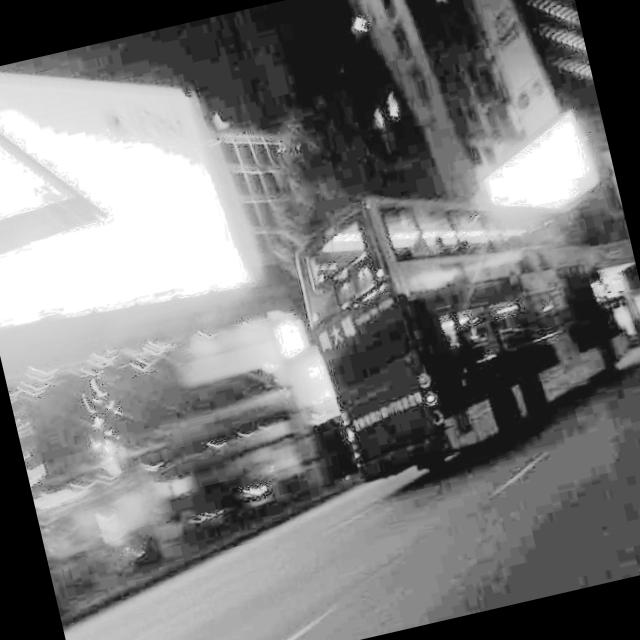Bus: (259, 122, 640, 511)
